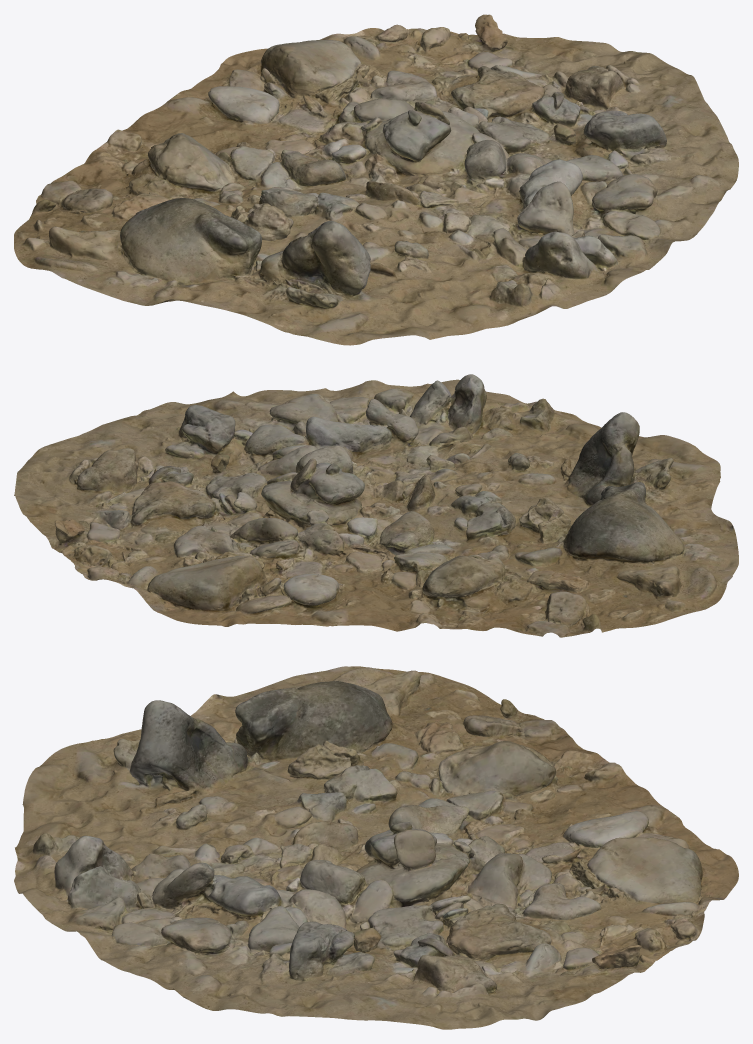
File: sand_rocks_small_01.glb
3 views of the same model, one above another, from view 1: azimuth 30°, elevation 25°; view 2: azimuth 150°, elevation 25°; view 3: azimuth 270°, elevation 25° (orthographic). The views are drawn at different scales.
Parts seen in each view (by area): view 1: sand_rocks_small_01_LOD0; view 2: sand_rocks_small_01_LOD0; view 3: sand_rocks_small_01_LOD0.
Boxes of the visible parts, box(x1,y1,x2,y2) form: sand_rocks_small_01_LOD0: box(14, 14, 738, 345); sand_rocks_small_01_LOD0: box(14, 374, 738, 637); sand_rocks_small_01_LOD0: box(14, 666, 738, 1029).
Bounding box in the file's own units: 4.63 × 0.5348 × 3.88.
1 material, 1 textured.
